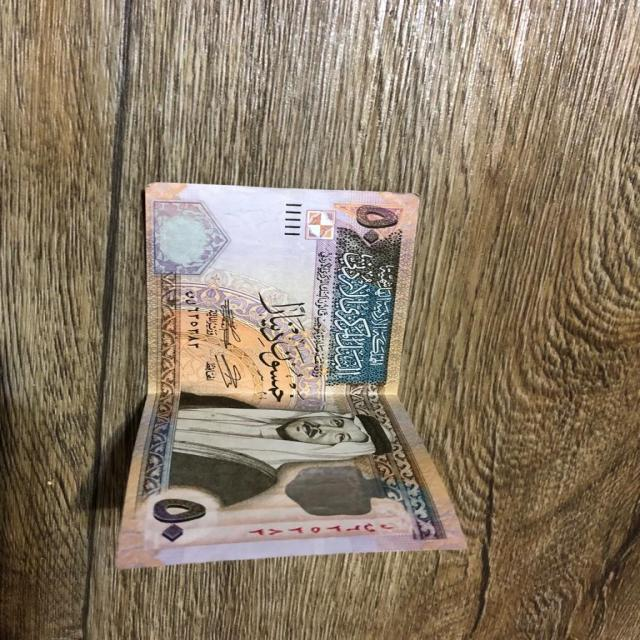50-dinar: (118, 182, 468, 573)
